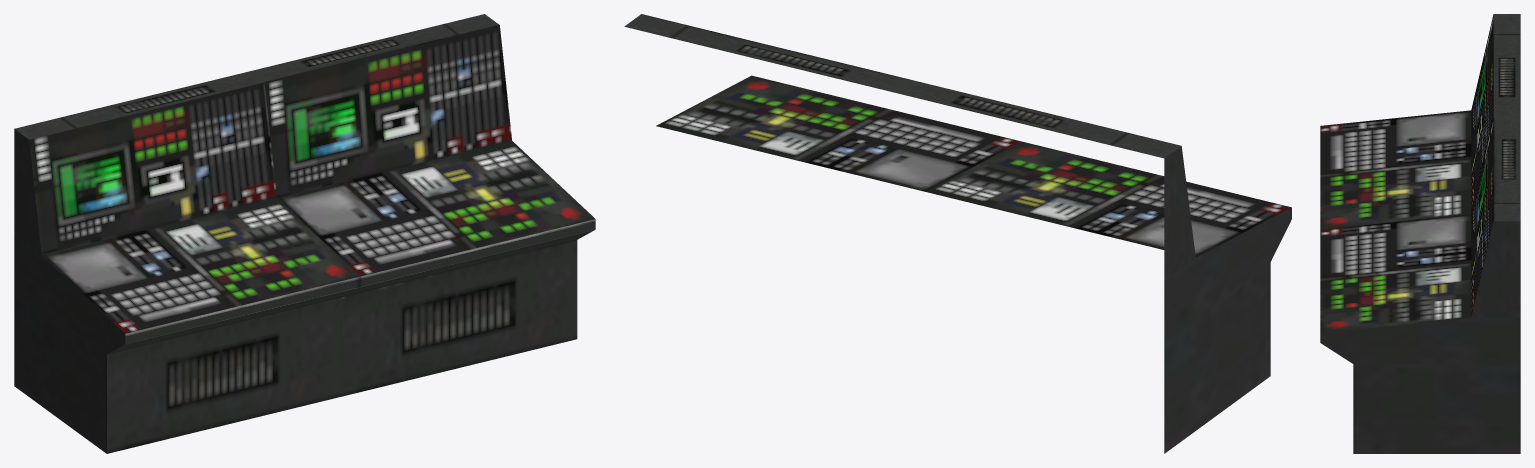
The model's file is BOOSTERBOX.glb.
3 renders of one model, left to right at view 1: azimuth 30°, elevation 25°; view 2: azimuth 150°, elevation 25°; view 3: azimuth 270°, elevation 25°, orthographic. The views are drawn at different scales.
Parts seen in each view (by area): view 1: BOOSTERBOX; view 2: BOOSTERBOX; view 3: BOOSTERBOX.
Part boxes in pixels (x1,y1,x2,y2): BOOSTERBOX: (14, 14, 595, 453); BOOSTERBOX: (624, 14, 1291, 453); BOOSTERBOX: (1320, 14, 1520, 453).
Bounding box in the file's own units: 3 × 1.57 × 1.23.
Materials: 1 (1 with a texture image).
